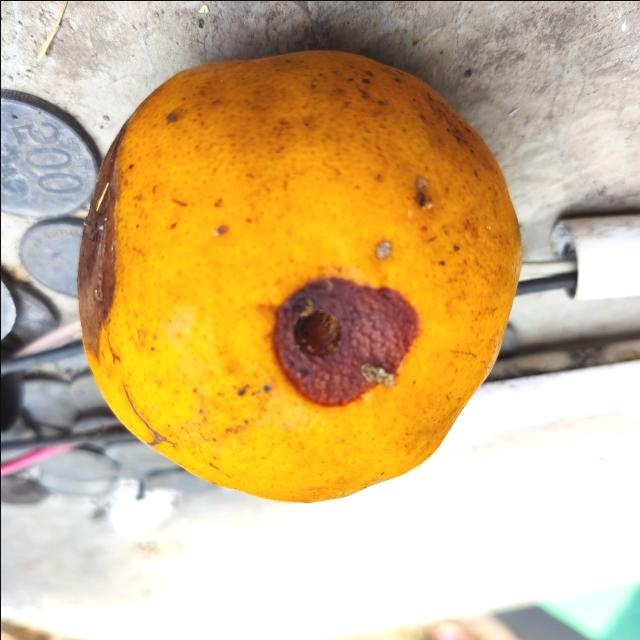agrume: (72, 45, 524, 506)
